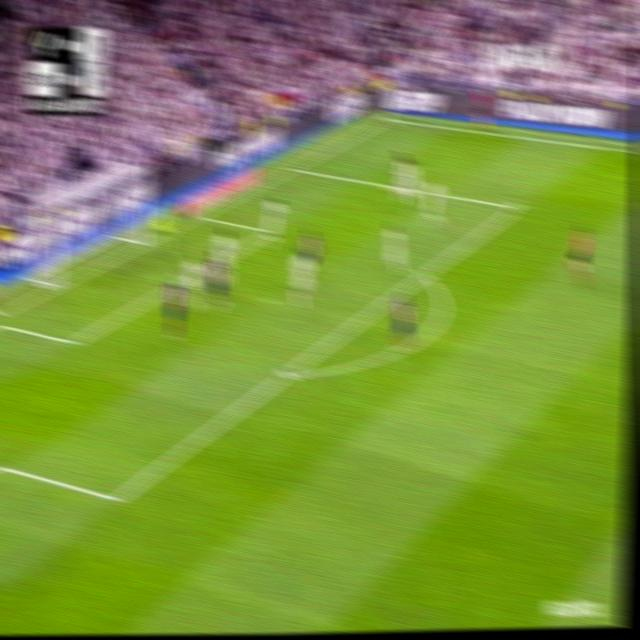bigarea_bottom_inner: (107, 481, 128, 515)
bigarea_top_inner: (508, 195, 525, 218)
bigarea_top_outter: (285, 157, 299, 175)
bottom_arc_area_intersection: (278, 358, 297, 387)
corner: (378, 111, 394, 124)
smallarea_bottom_inner: (66, 330, 81, 354)
top_arc_area_intersection: (417, 264, 432, 283)
